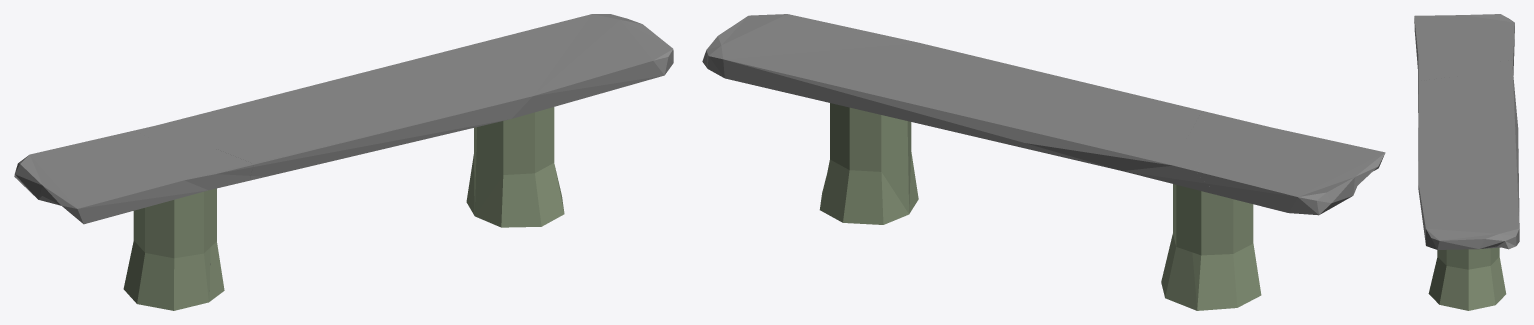
Rendered from Bench_01 Fracture.fbx.
The picture shows the model from 3 angles, left to right: view 1: azimuth 30°, elevation 25°; view 2: azimuth 150°, elevation 25°; view 3: azimuth 270°, elevation 25°; orthographic projection. The views are drawn at different scales.
Parts seen in each view (by area): view 1: Bench_01_cell, Bench_01_cell.003, Bench_01_cell.001, Bench_01_cell.002; view 2: Bench_01_cell, Bench_01_cell.003, Bench_01_cell.001, Bench_01_cell.002; view 3: Bench_01_cell, Bench_01_cell.003, Bench_01_cell.001, Bench_01_cell.002.
Part boxes in pixels (left/top/right/bottom): Bench_01_cell: left=386, top=14, right=673, bottom=227; Bench_01_cell.003: left=157, top=67, right=450, bottom=301; Bench_01_cell.001: left=14, top=130, right=227, bottom=224; Bench_01_cell.002: left=123, top=125, right=253, bottom=310; Bench_01_cell: left=702, top=14, right=1006, bottom=224; Bench_01_cell.003: left=930, top=64, right=1201, bottom=310; Bench_01_cell.001: left=1195, top=117, right=1385, bottom=215; Bench_01_cell.002: left=1172, top=111, right=1261, bottom=310; Bench_01_cell: left=1418, top=152, right=1519, bottom=310; Bench_01_cell.003: left=1418, top=69, right=1518, bottom=158; Bench_01_cell.001: left=1414, top=14, right=1514, bottom=71; Bench_01_cell.002: left=1418, top=60, right=1513, bottom=81.
Bounding box in the file's own units: 205 × 45.21 × 40.38.
